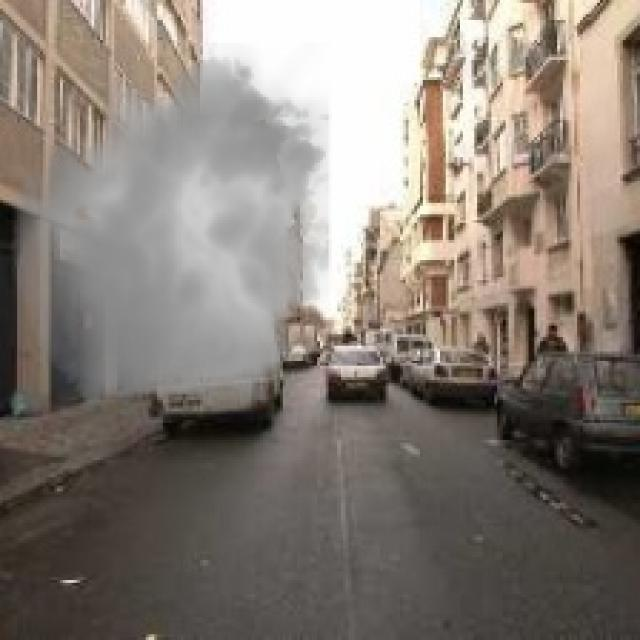smoke: (0, 43, 346, 423)
